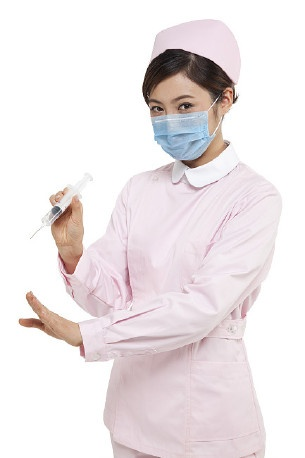Mask: (147, 87, 222, 163)
